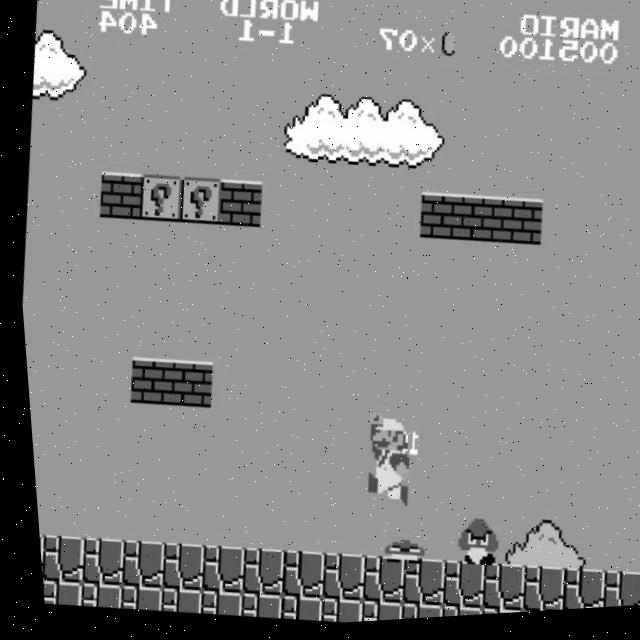1- brick_block: (213, 179, 262, 232), (161, 359, 210, 412), (121, 356, 170, 409), (493, 201, 542, 253), (452, 198, 501, 250), (93, 171, 142, 223), (413, 195, 461, 247)
13- mystery_block: (173, 176, 222, 228), (133, 174, 181, 226)
17- undestructible_block: (429, 562, 478, 616), (149, 541, 198, 595), (469, 566, 518, 619), (389, 559, 438, 612), (349, 557, 398, 610), (309, 554, 358, 607), (269, 550, 318, 603), (229, 547, 278, 600), (189, 545, 238, 598), (109, 538, 158, 591), (69, 535, 118, 588), (31, 532, 78, 585), (509, 569, 557, 618), (549, 571, 597, 616), (589, 574, 637, 614), (269, 596, 314, 626), (229, 593, 274, 623), (189, 590, 234, 620), (149, 587, 194, 617), (109, 584, 154, 614), (69, 581, 114, 611), (309, 598, 353, 627), (34, 577, 73, 607), (349, 601, 393, 625), (388, 605, 432, 624), (429, 608, 472, 622), (469, 611, 512, 620), (629, 579, 640, 612)
4- fire_mario: (353, 411, 413, 513)
8- goomba: (444, 517, 497, 574)
